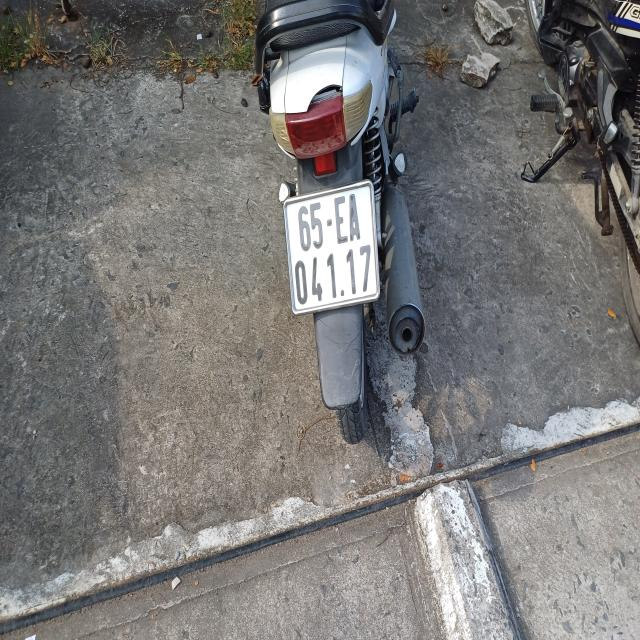0: (293, 258, 309, 305)
1: (345, 245, 358, 297), (326, 251, 337, 300)
4: (312, 256, 326, 305)
5: (309, 198, 325, 250)
6: (298, 205, 312, 253)
7: (359, 241, 371, 291)
A: (348, 188, 361, 242)
E: (333, 196, 349, 244)
